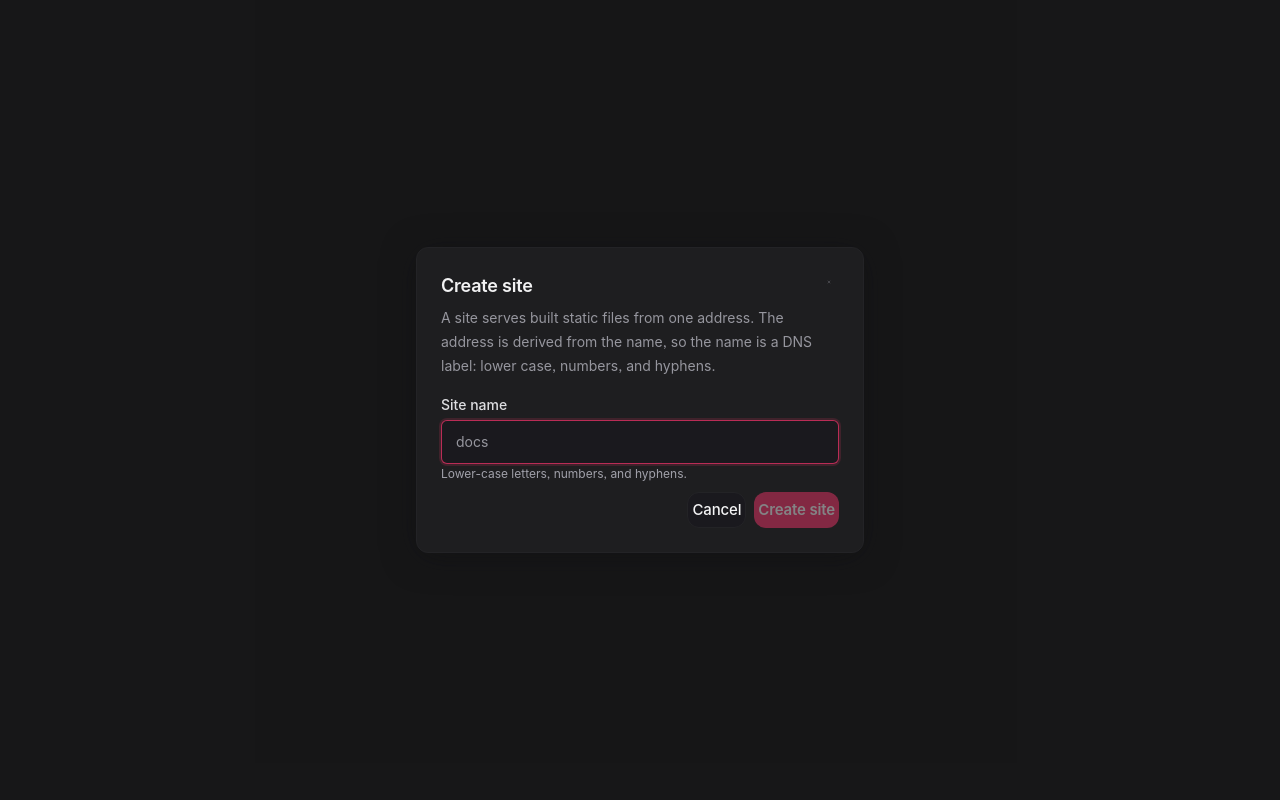
Test case: CreateSiteDialog › states the rule instead of failing on submit
This screenshot has width=1280, height=800.
Type "d" into the field labelled "Site name" at (640, 442), box [441, 420, 839, 464]
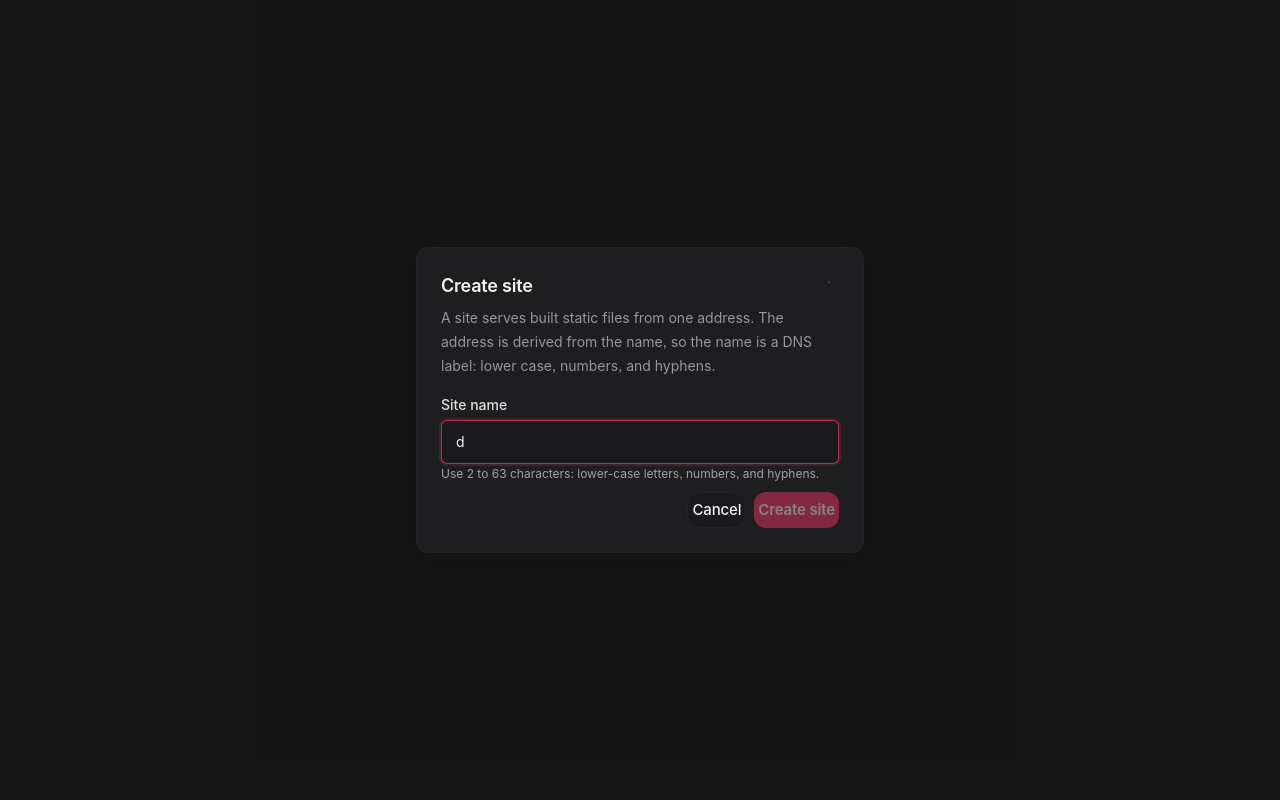
Expected: the button "Create site" is disabled, [754, 492, 839, 528]
Expected: the text "Use 2 to 63 characters: lower-case letters, numbers, and hyphens." is shown, [441, 472, 839, 476]
